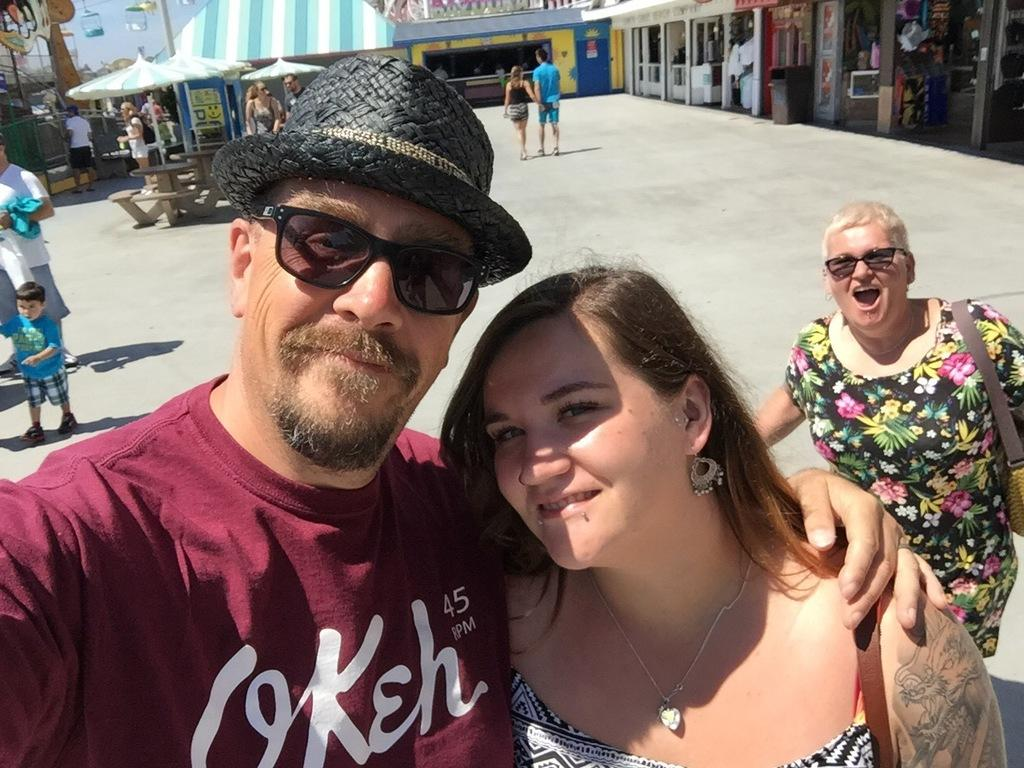Hat: (206, 55, 530, 287)
